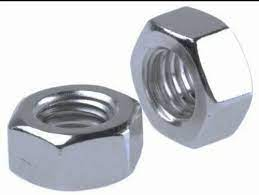Thread: (8, 84, 139, 182), (130, 26, 242, 132)
